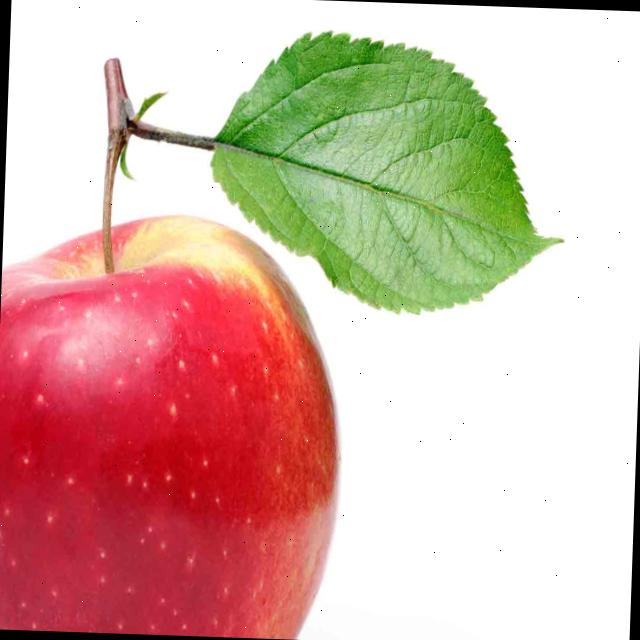Apel: (0, 206, 349, 639)
